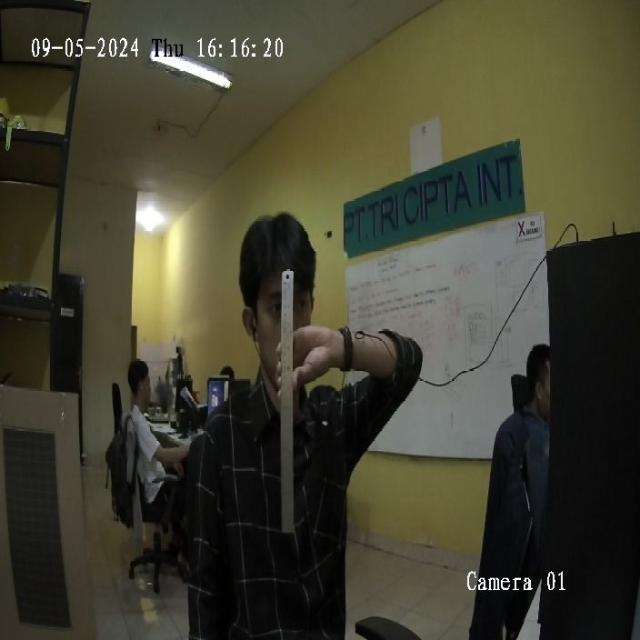Ruler: (280, 269, 294, 532)
